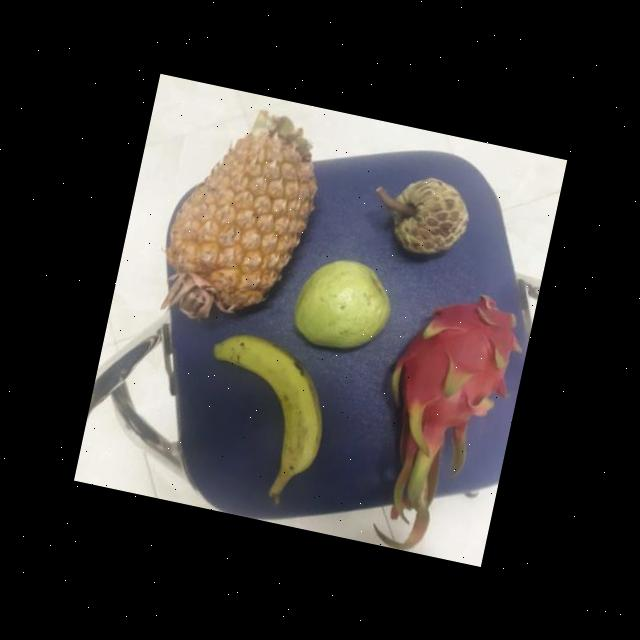Sakya fruit: (382, 172, 479, 266)
banana: (190, 331, 344, 482)
guava: (288, 252, 403, 358)
pineapple: (154, 110, 326, 334)
pitaya: (376, 282, 532, 469)
